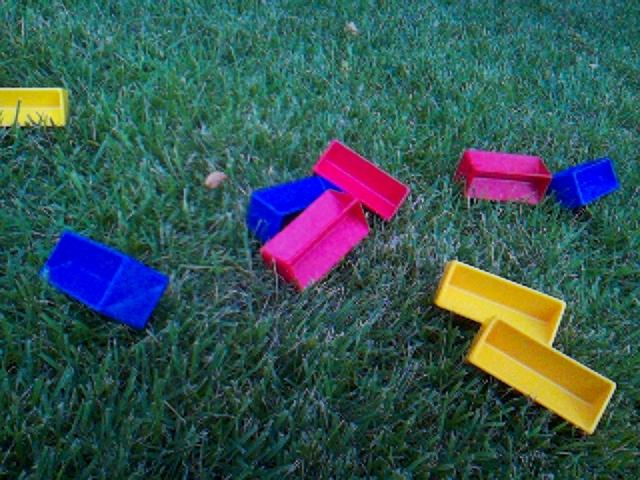blue: (39, 228, 171, 332), (246, 174, 343, 246), (548, 156, 621, 213)
red: (259, 188, 371, 293), (312, 138, 411, 223), (454, 147, 553, 207)
yellow: (463, 315, 618, 436), (433, 258, 569, 349), (1, 85, 70, 130)
